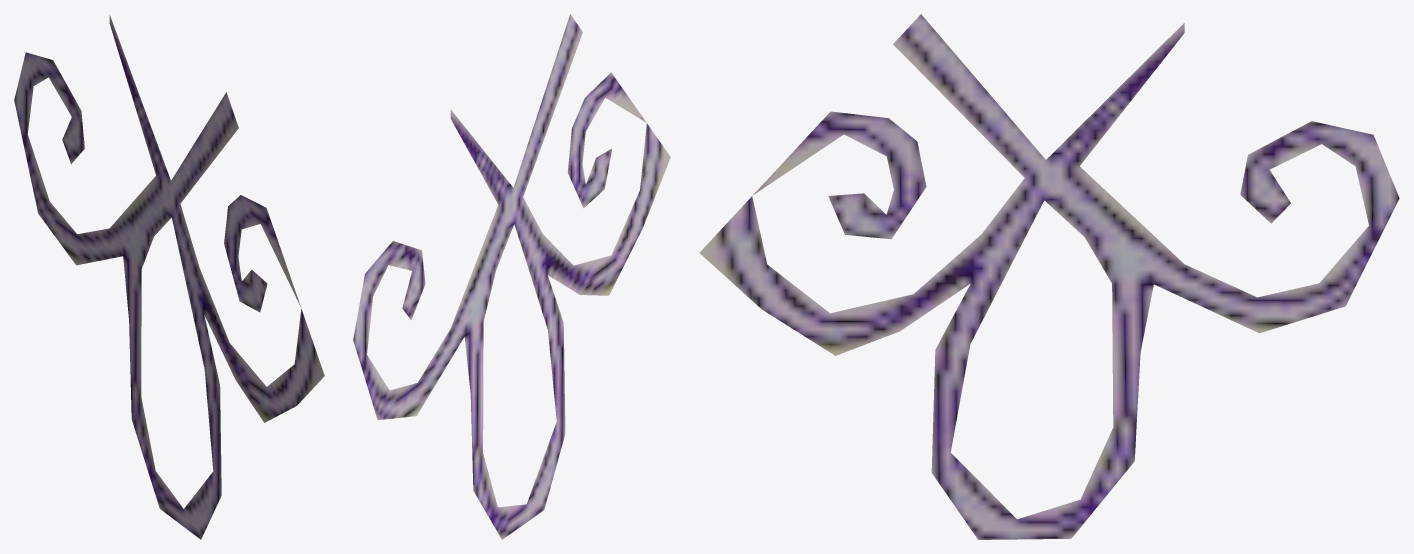
3 renders of one model, left to right at view 1: azimuth 30°, elevation 25°; view 2: azimuth 150°, elevation 25°; view 3: azimuth 270°, elevation 25°, orthographic. The views are drawn at different scales.
Parts seen in each view (by area): view 1: Picsart_22-01-21_15-37-57-171.001; view 2: Picsart_22-01-21_15-37-57-171.001; view 3: Picsart_22-01-21_15-37-57-171.001.
Boxes of the visible parts, left/top/right/bottom form: Picsart_22-01-21_15-37-57-171.001: left=14, top=15, right=324, bottom=539; Picsart_22-01-21_15-37-57-171.001: left=353, top=14, right=670, bottom=539; Picsart_22-01-21_15-37-57-171.001: left=699, top=14, right=1399, bottom=539.
Bounding box in the file's own units: 1.48e-07 × 1.07 × 1.29.
1 material, 1 textured.
